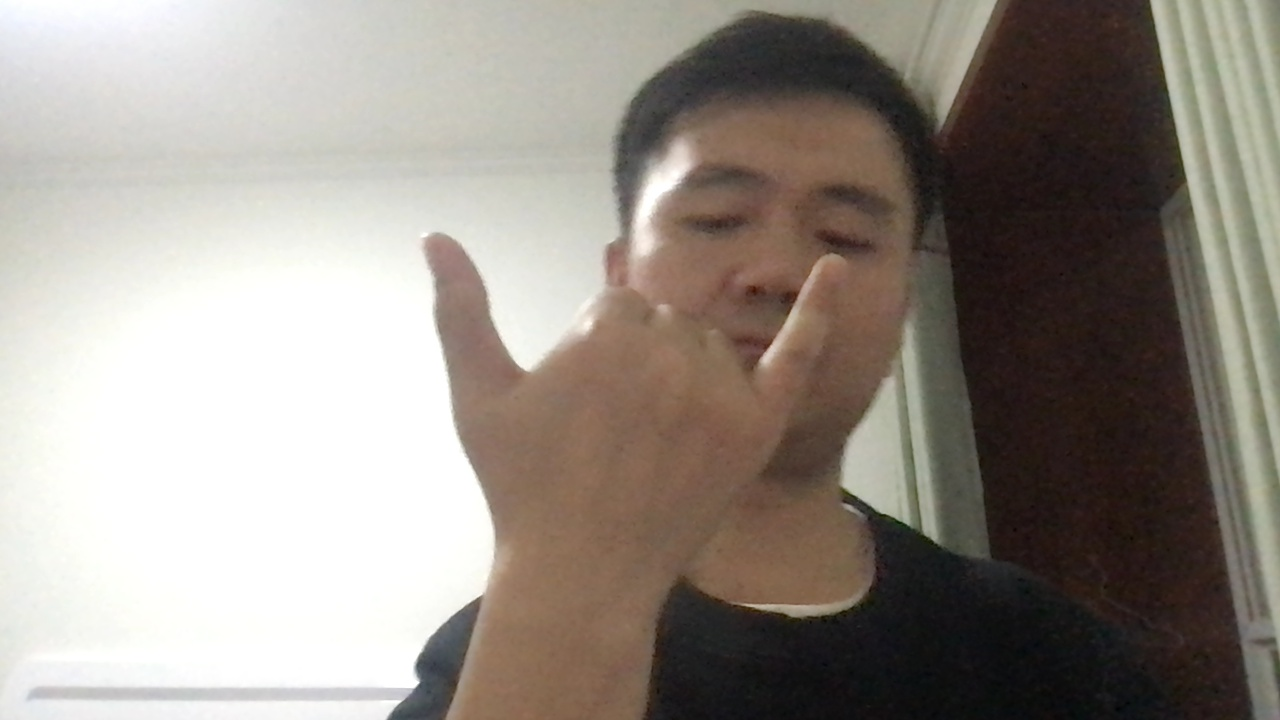iloveyou: (400, 196, 867, 548)
